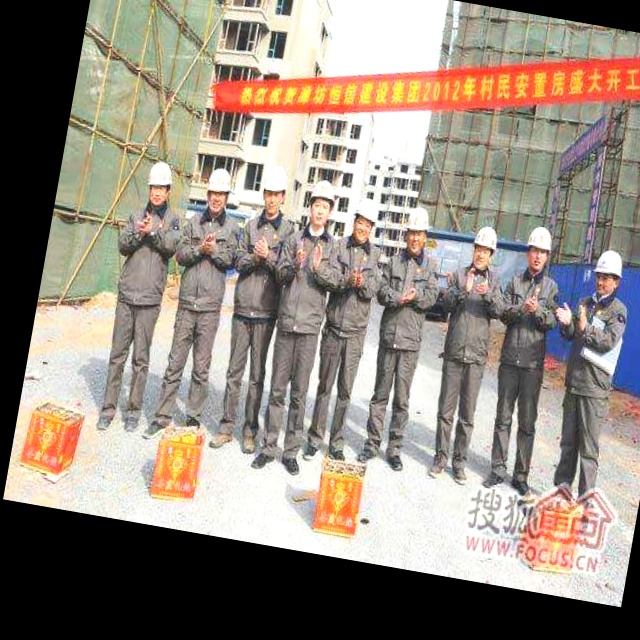Con_Casco: (401, 204, 435, 257), (469, 222, 502, 273)
